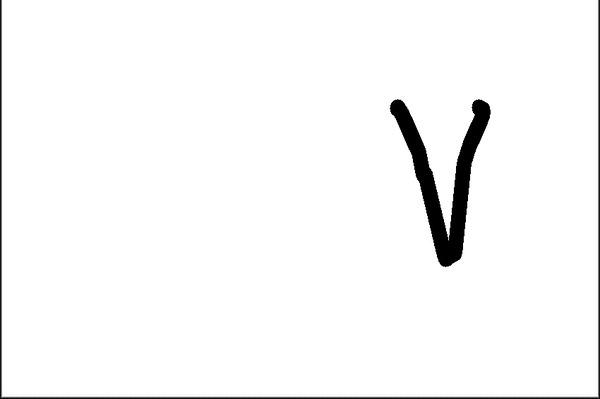V: (376, 89, 504, 272)
